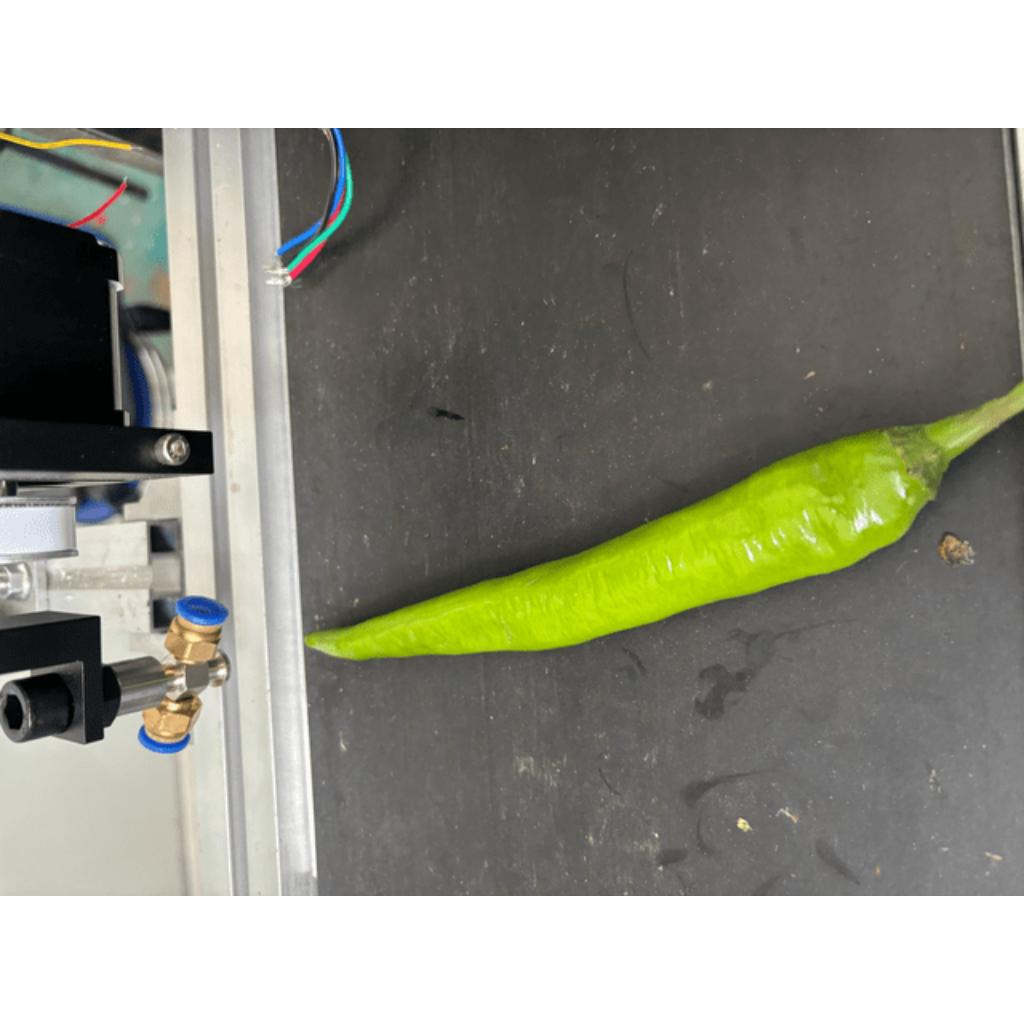chili: (297, 423, 951, 665)
